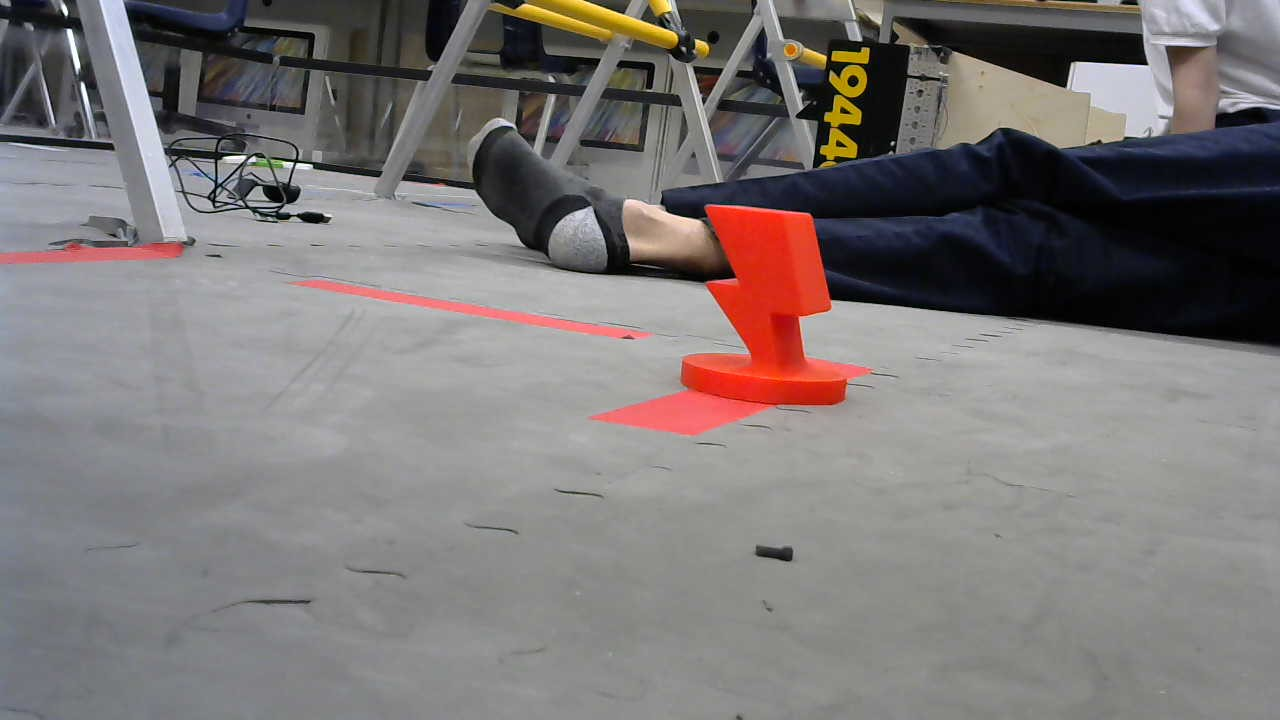redobject: (679, 202, 843, 405)
